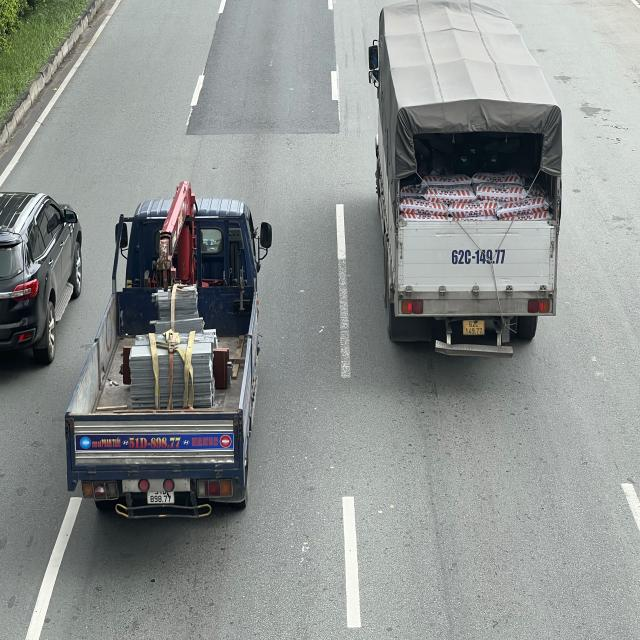car: (0, 193, 83, 364)
truck: (64, 185, 273, 520), (372, 4, 564, 353)
